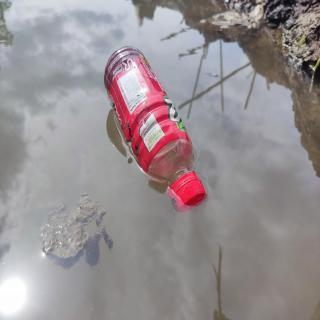bottle: (103, 41, 211, 215)
